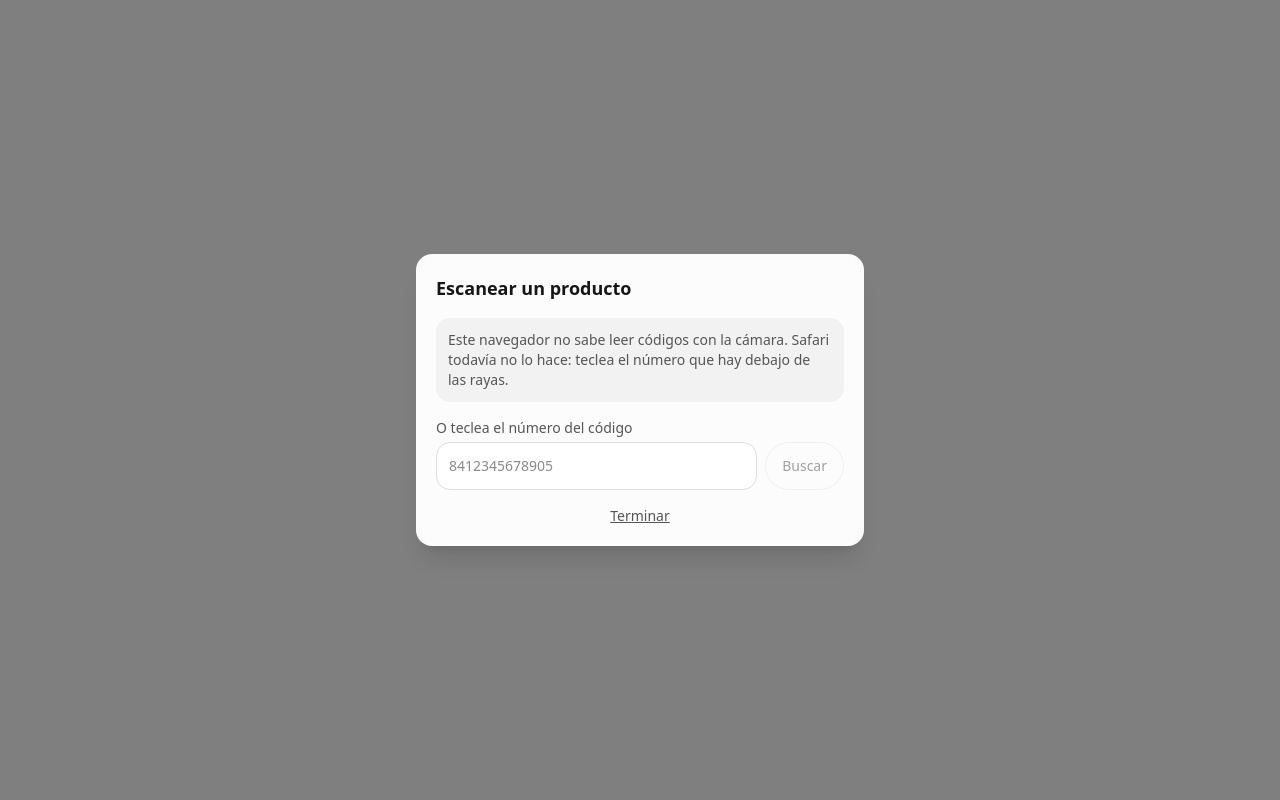
Test: ScanSheet › dice cuándo el nombre es el que tú le enseñaste
Type "5449000000996" into the field labelled "O teclea el número del código Buscar" at [597, 466], box top-left (436, 442), bottom-right (757, 490)
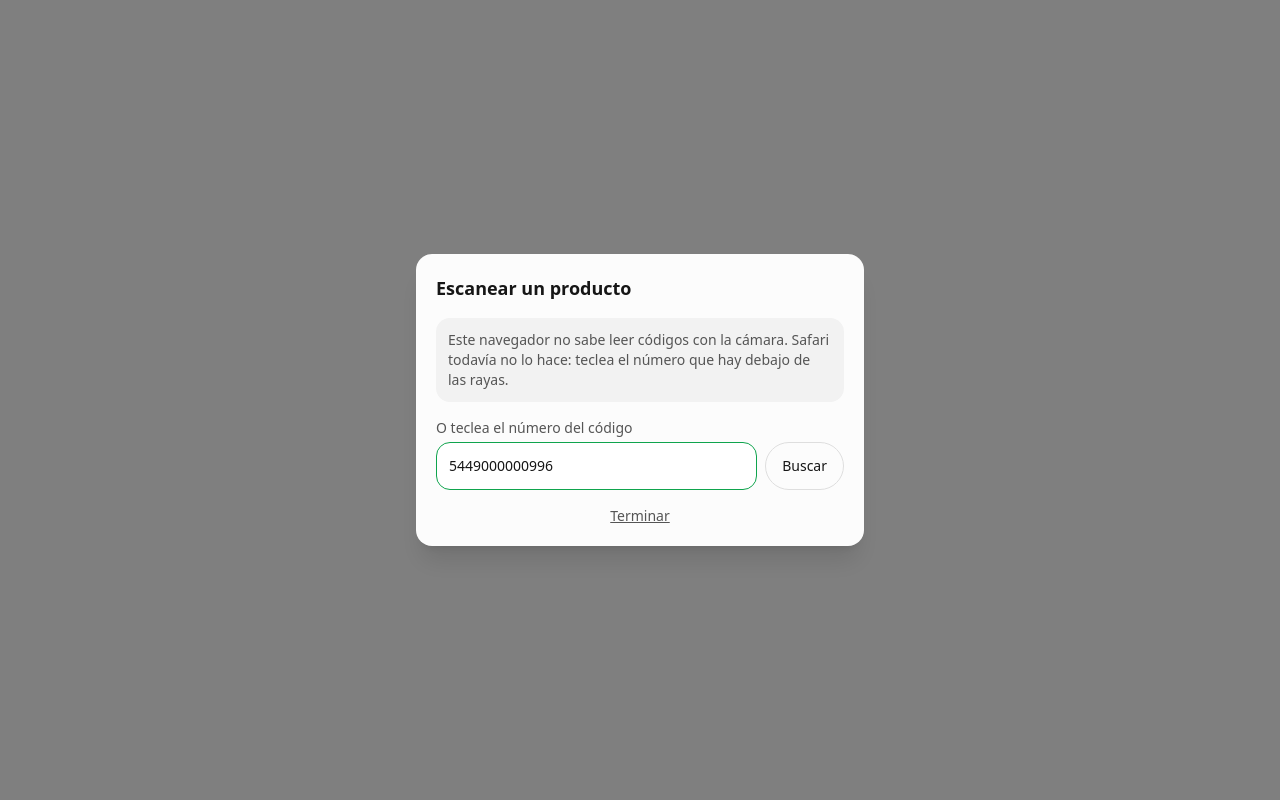
Click the button "Buscar" at [805, 466], box top-left (765, 442), bottom-right (844, 490)
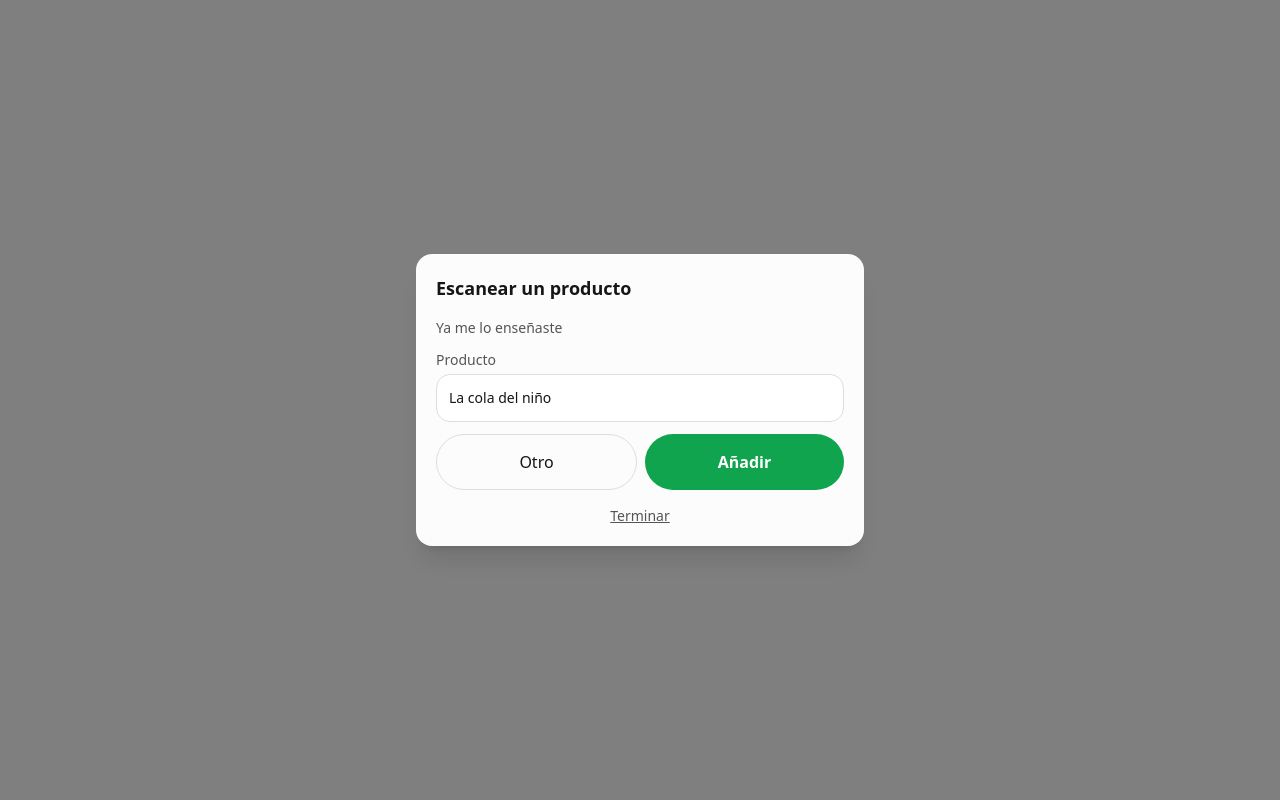
Check: the text "Ya me lo enseñaste" is shown, box top-left (436, 318), bottom-right (562, 337)
